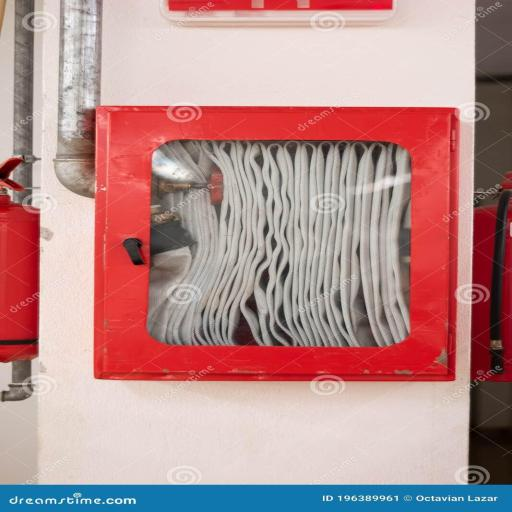fire_hose: (79, 93, 455, 388)
